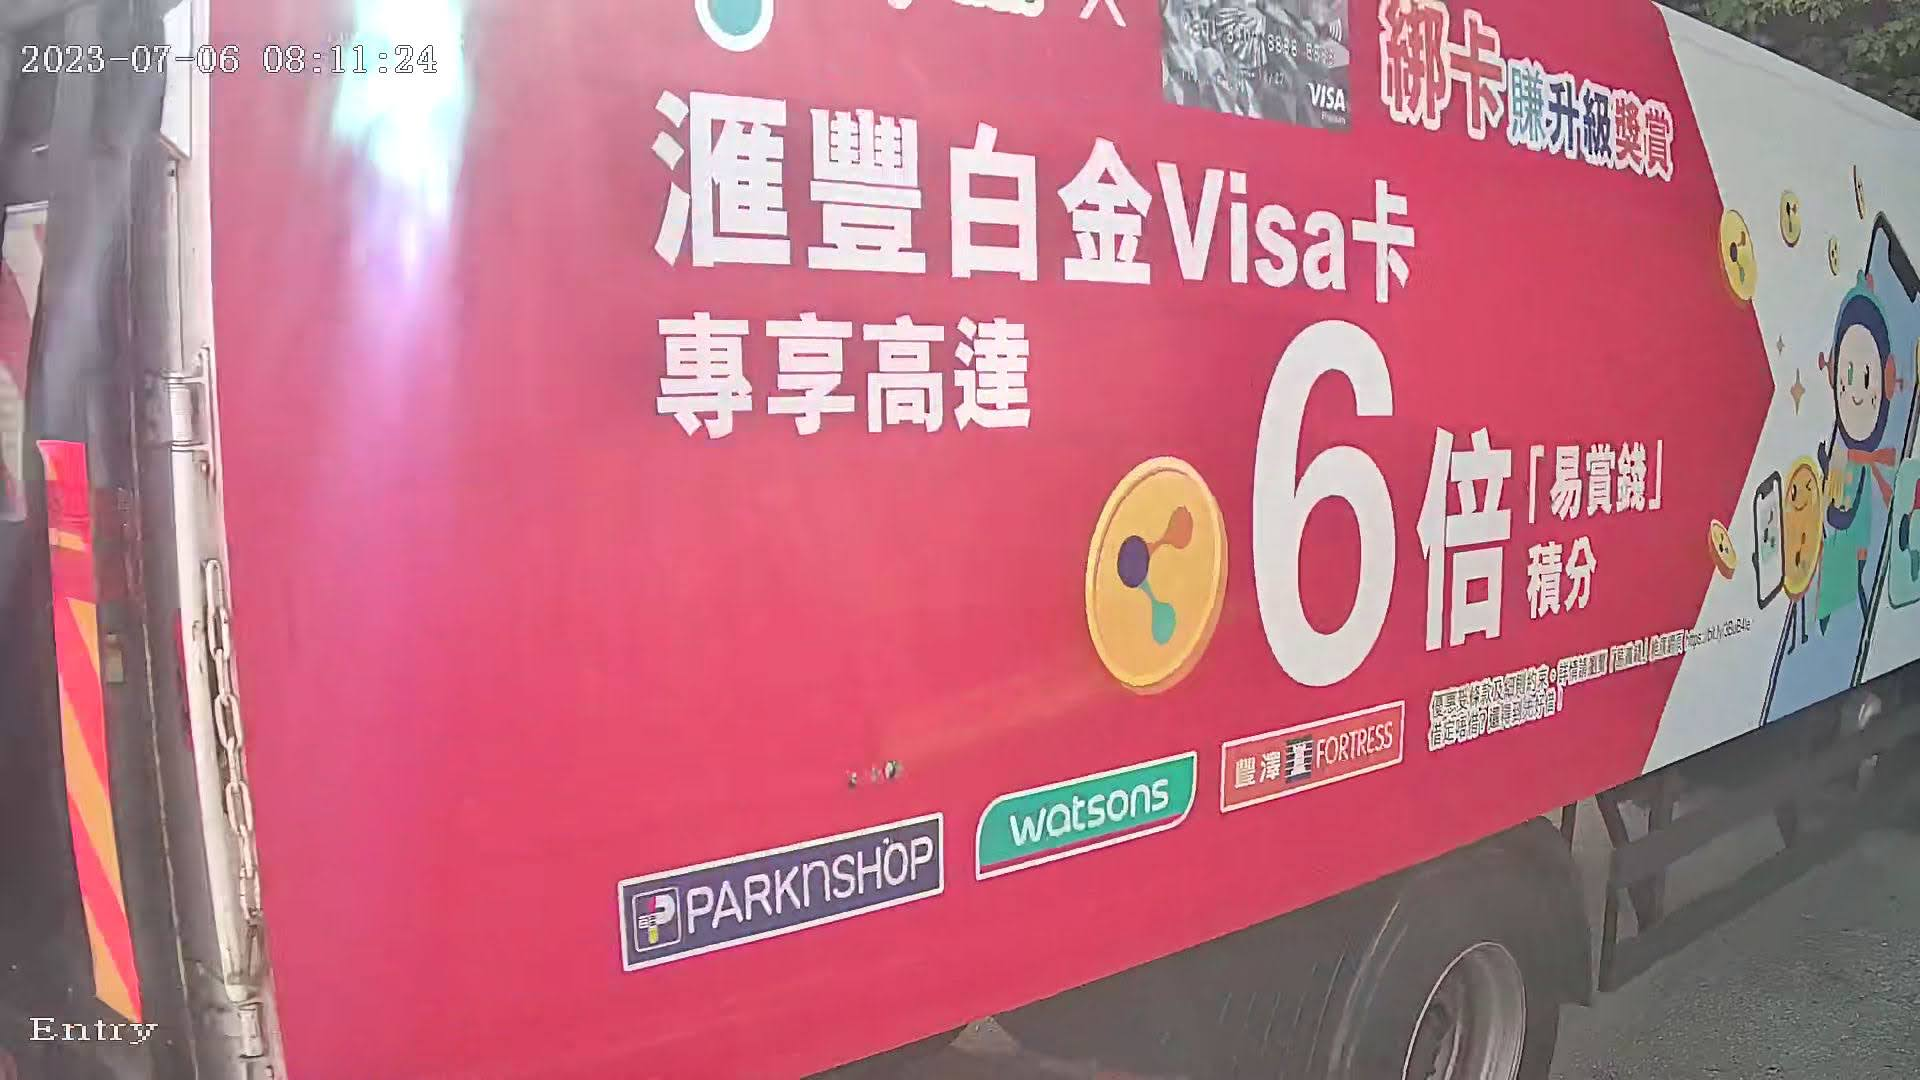truck: (12, 1, 1904, 1072)
